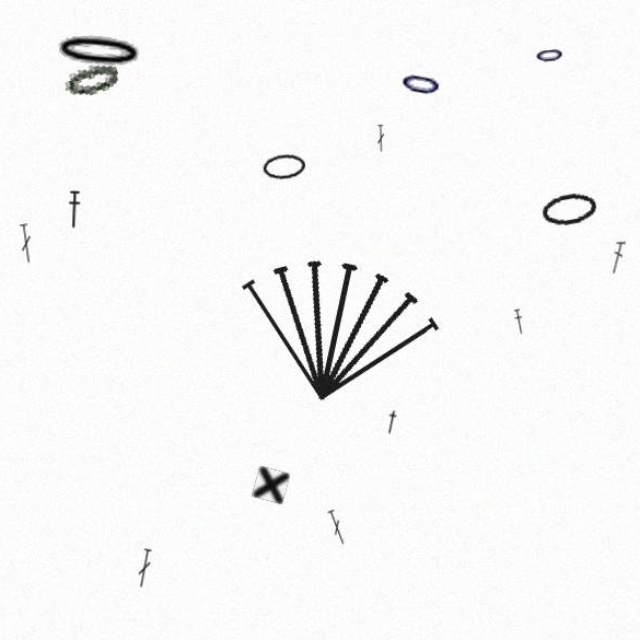chain: (58, 51, 145, 92), (67, 76, 122, 117), (504, 197, 558, 234), (374, 83, 418, 118), (250, 163, 291, 190), (499, 63, 528, 85)
double: (308, 489, 330, 523), (134, 525, 152, 562), (27, 228, 43, 265), (568, 243, 583, 275), (355, 138, 363, 163)
fan: (209, 228, 430, 411)
half_double: (71, 198, 86, 233), (361, 398, 377, 422), (479, 306, 492, 330)
single: (241, 450, 276, 485)
